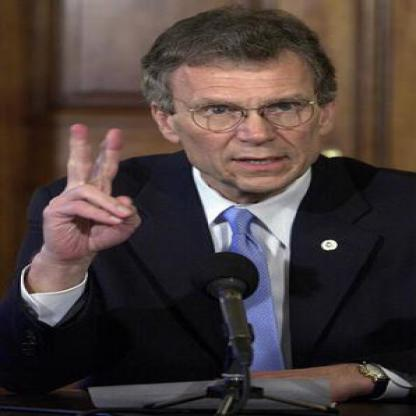face: (173, 19, 329, 194)
